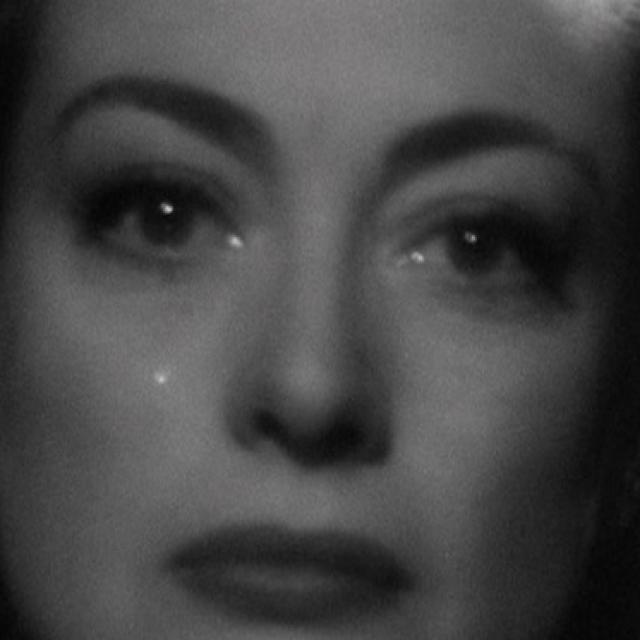Depress: (3, 0, 633, 638)
